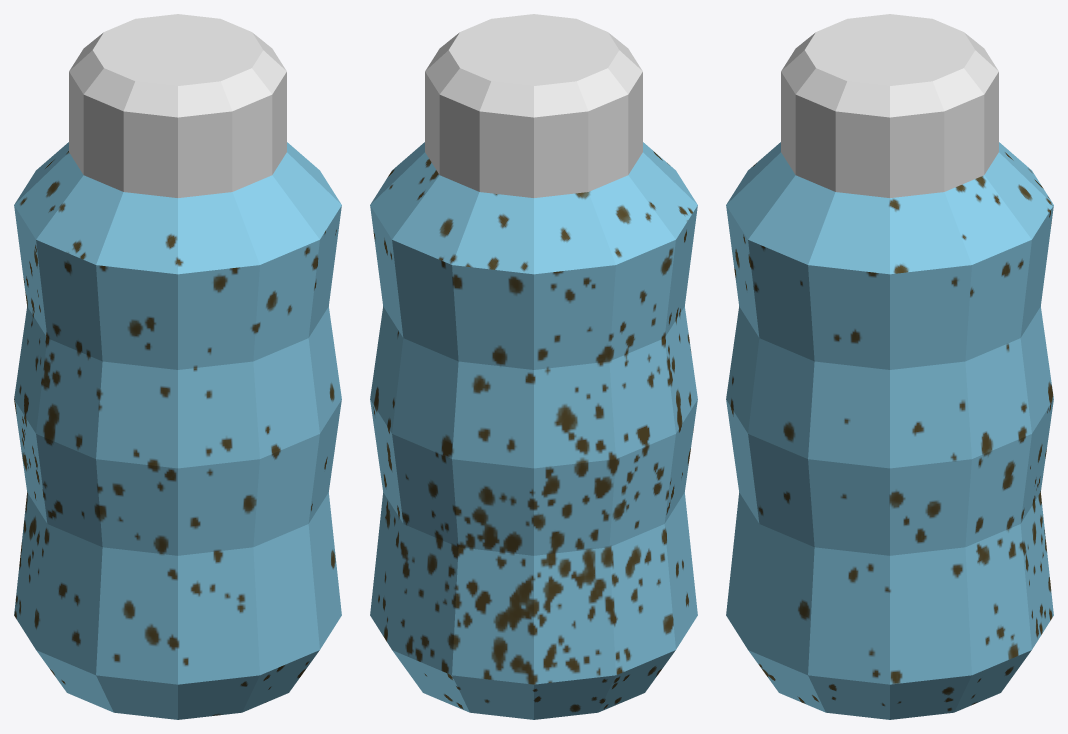
Rendered from Bottle.fbx.
3 renders of one model, left to right at view 1: azimuth 30°, elevation 25°; view 2: azimuth 150°, elevation 25°; view 3: azimuth 270°, elevation 25°, orthographic.
Visible parts, largest first — view 1: BottleObject1; view 2: BottleObject1; view 3: BottleObject1.
Part boxes in pixels (box(x1,y1,x2,y2)): BottleObject1: box(14, 14, 341, 719); BottleObject1: box(370, 14, 697, 719); BottleObject1: box(726, 14, 1053, 719).
Size of the model in its own units: 3.24 by 6.71 by 3.24.
